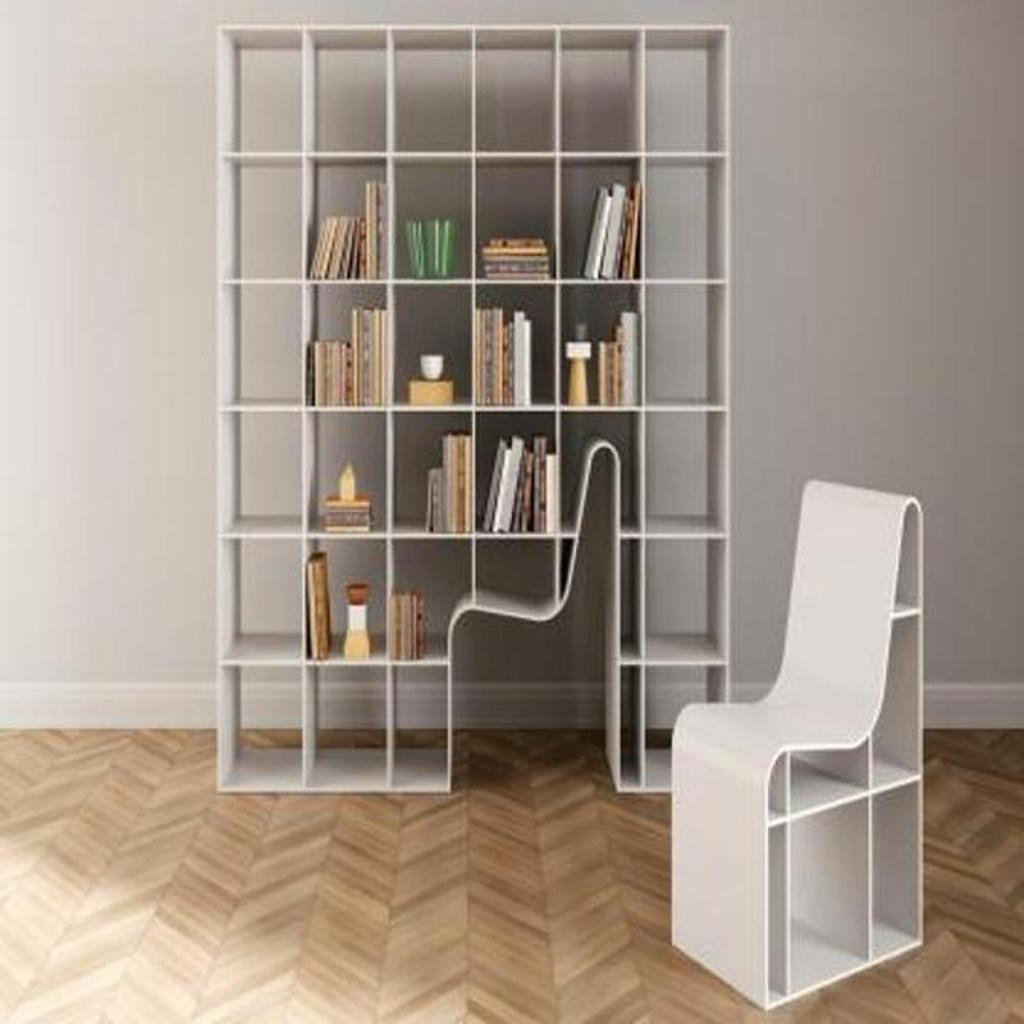lamp: (216, 25, 734, 794)
